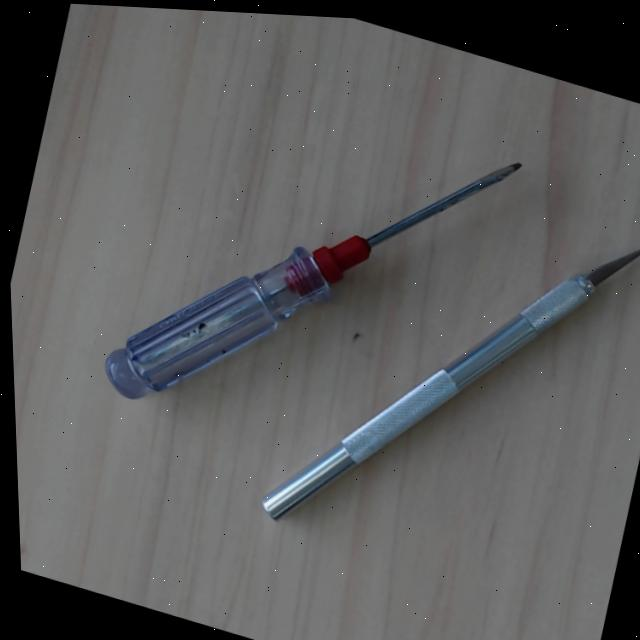Obeng-Kecil: (96, 134, 534, 409)
